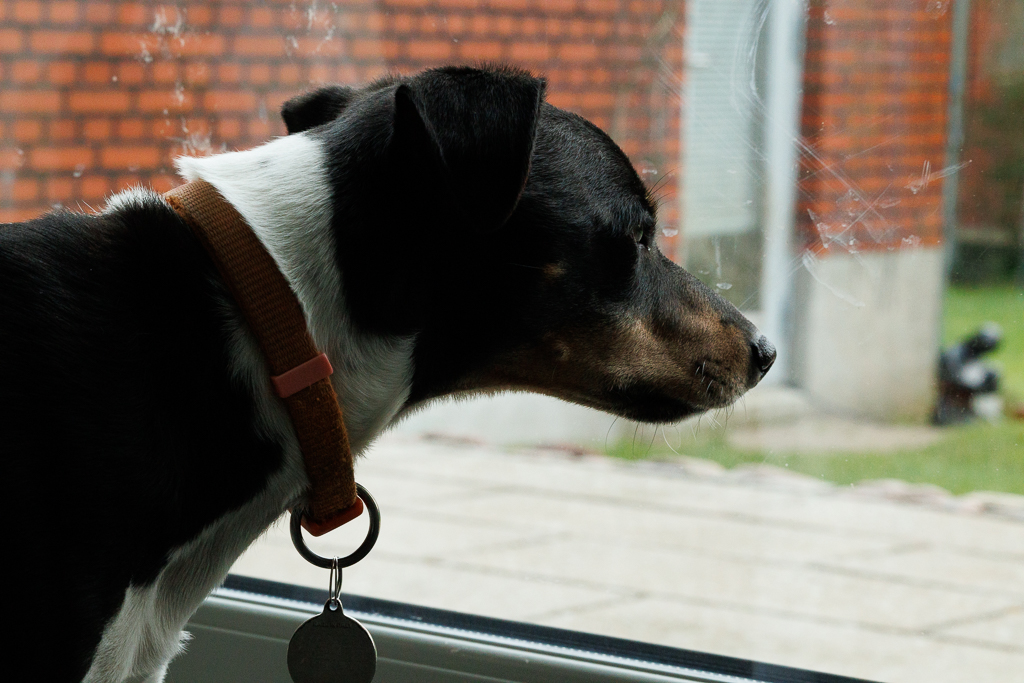Dog: (0, 55, 794, 683)
Humanoid: (918, 316, 1017, 447)
